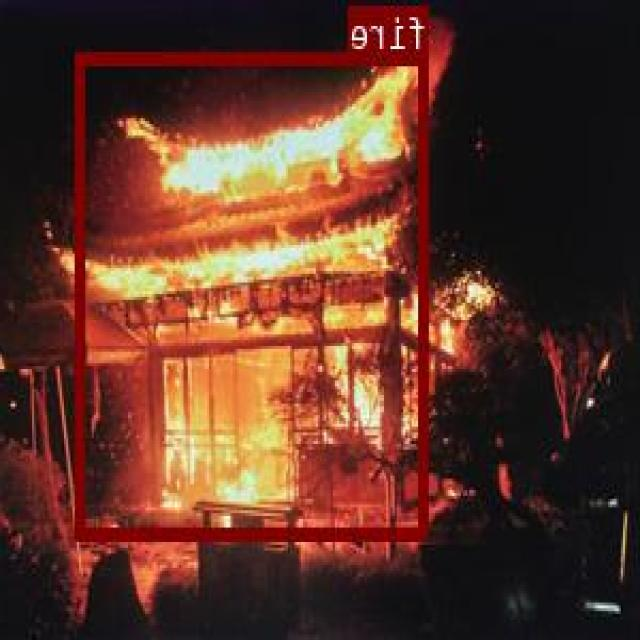fire: (78, 49, 430, 539)
